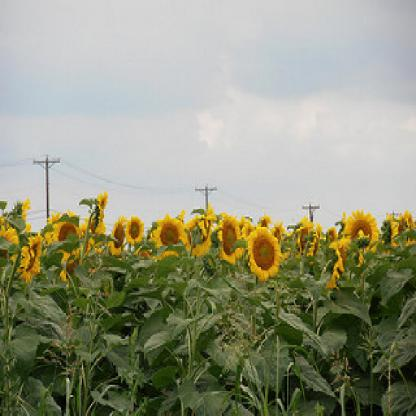SUN FLOWER: (6, 135, 409, 343)
